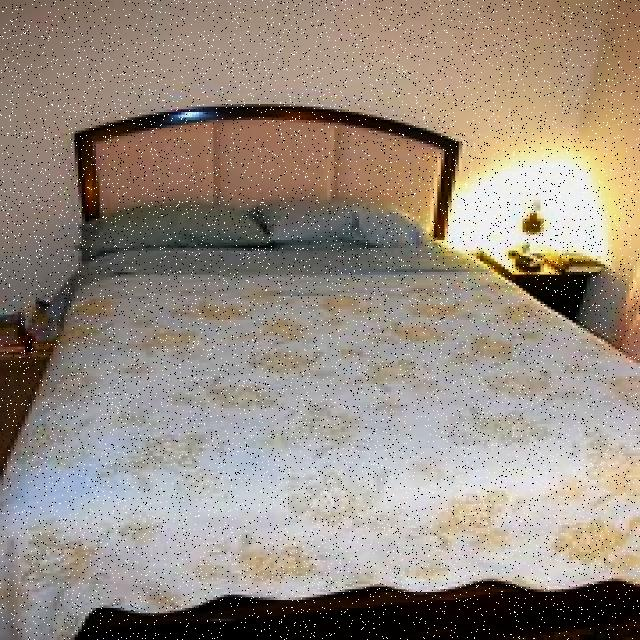bed: (60, 98, 476, 640)
